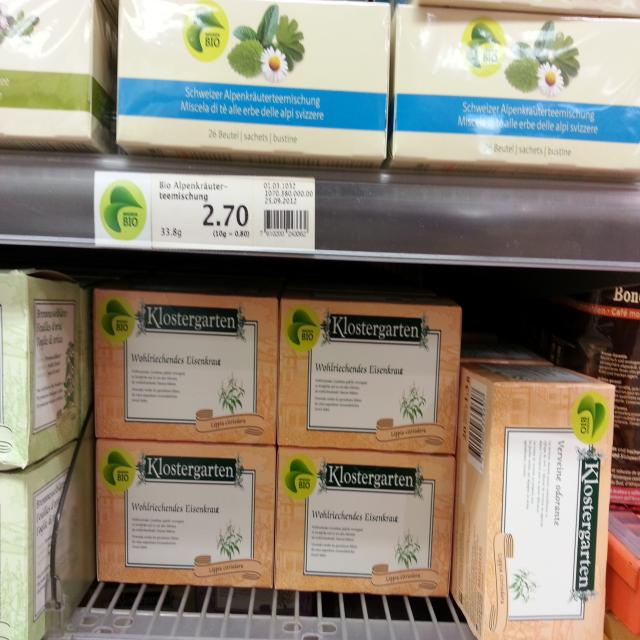Tea: (115, 0, 391, 165), (391, 0, 640, 182), (456, 361, 615, 640), (89, 287, 280, 443), (280, 304, 462, 454), (93, 444, 274, 592), (272, 455, 456, 596), (0, 436, 99, 640), (0, 266, 91, 471), (0, 0, 116, 153)
